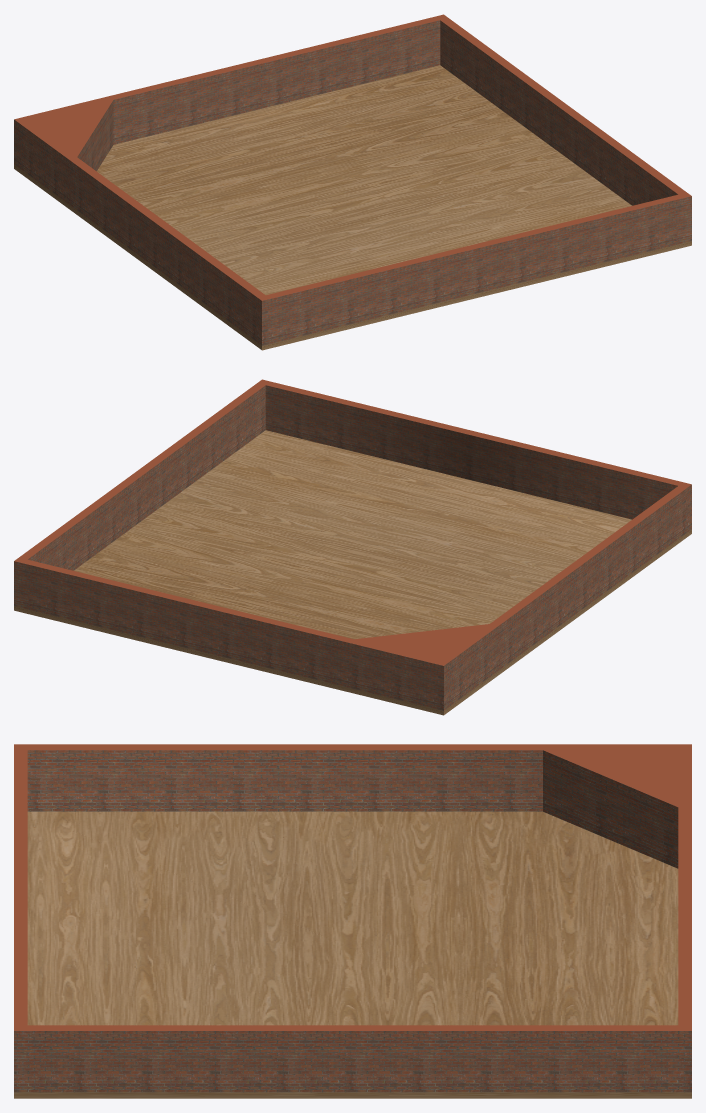
Rendered from playground.dae.
3 views of the same model, one above another, from view 1: azimuth 30°, elevation 25°; view 2: azimuth 150°, elevation 25°; view 3: azimuth 270°, elevation 25° (orthographic). The views are drawn at different scales.
Parts seen in each view (by area): view 1: Floor.001, Walls.001; view 2: Floor.001, Walls.001; view 3: Floor.001, Walls.001.
Part boxes in pixels (left/top/right/bottom): Floor.001: left=14, top=65, right=691, bottom=350; Walls.001: left=14, top=14, right=691, bottom=345; Floor.001: left=14, top=430, right=691, bottom=715; Walls.001: left=14, top=379, right=691, bottom=710; Floor.001: left=14, top=811, right=691, bottom=1098; Walls.001: left=14, top=744, right=691, bottom=1092.
Bounding box in the file's own units: 10 × 10 × 1.1.
Materials: 3 (2 with a texture image).
